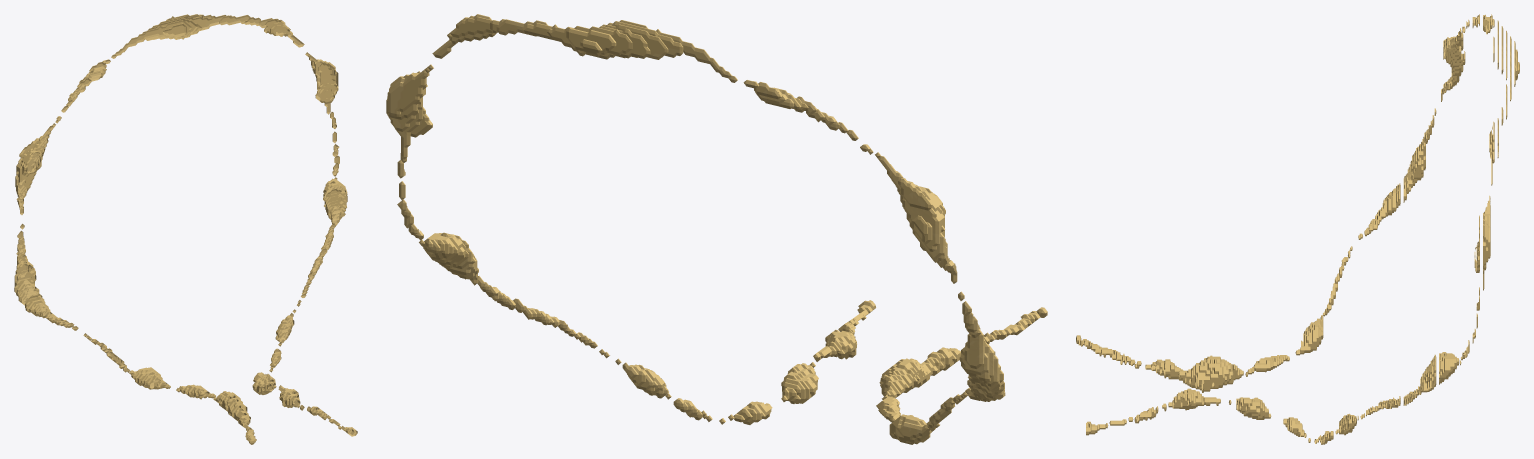
The model's file is SVV_AVKL.gltf.
3 views of the same model, side by side, from view 1: azimuth 30°, elevation 25°; view 2: azimuth 150°, elevation 25°; view 3: azimuth 270°, elevation 25° (orthographic). The views are drawn at different scales.
Parts seen in each view (by area): view 1: AVKL; view 2: AVKL; view 3: AVKL.
Boxes of the visible parts, left/top/right/bottom form: AVKL: left=14, top=14, right=357, bottom=444; AVKL: left=386, top=14, right=1047, bottom=444; AVKL: left=1076, top=14, right=1519, bottom=444.
Size of the model in its own units: 95281 by 79408 by 81596.
